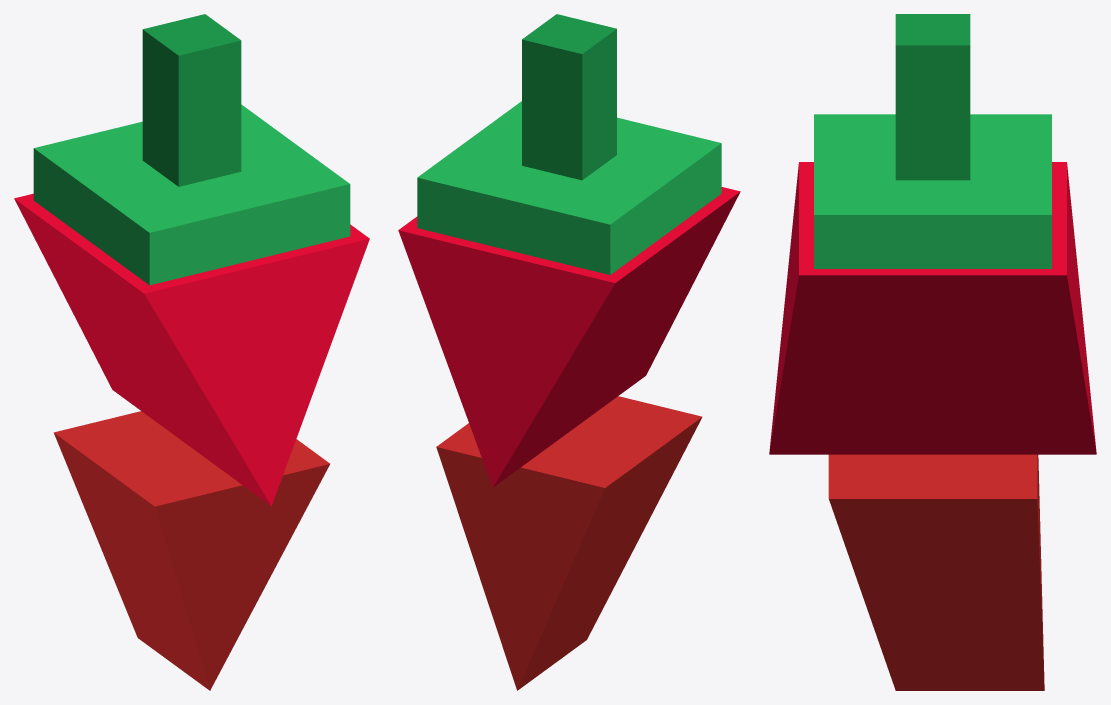
File: pepper.fbx
The picture shows the model from 3 angles, left to right: view 1: azimuth 30°, elevation 25°; view 2: azimuth 150°, elevation 25°; view 3: azimuth 270°, elevation 25°; orthographic projection. The views are drawn at different scales.
Parts seen in each view (by area): view 1: Pepper; view 2: Pepper; view 3: Pepper.
Boxes of the visible parts, box(x1,y1,x2,y2) form: Pepper: box(14, 14, 369, 690); Pepper: box(398, 14, 740, 690); Pepper: box(769, 14, 1096, 690).
Size of the model in its own units: 36 by 98 by 44.
